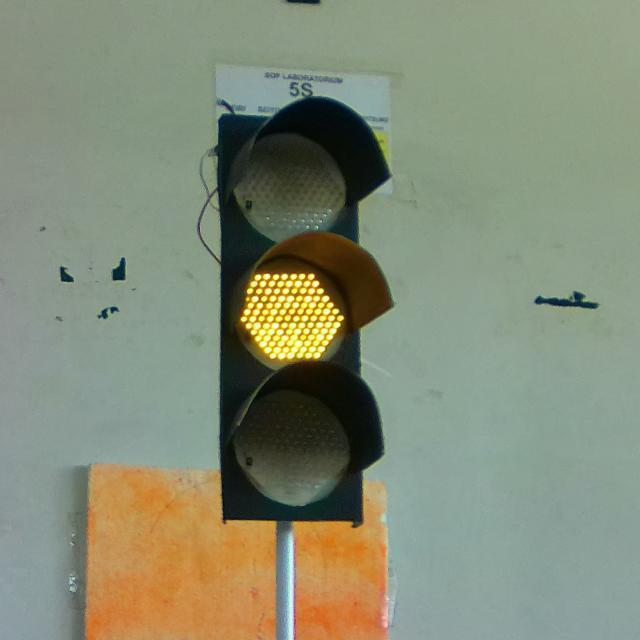yellow_light: (217, 96, 390, 521)
